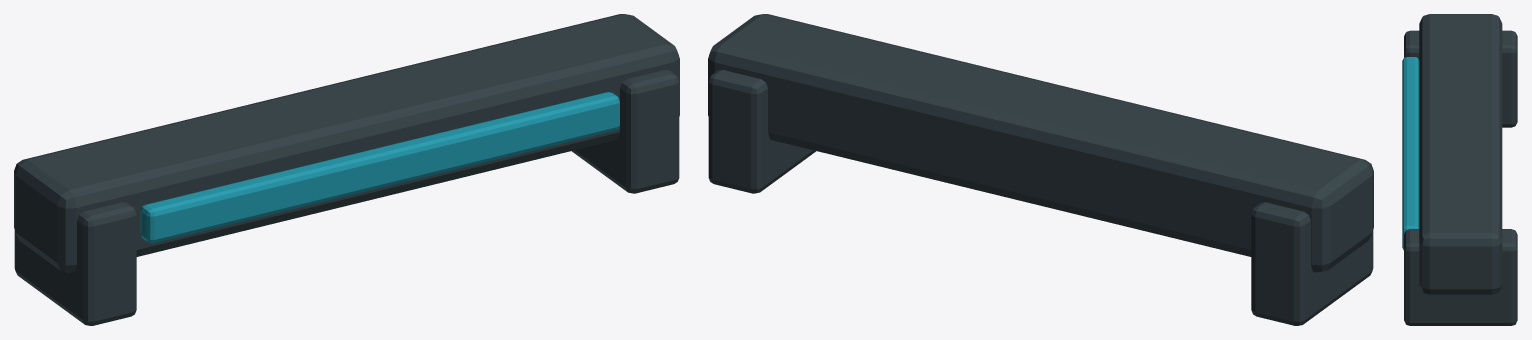
Rendered from dz_emergency_light_bar.glb.
The picture shows the model from 3 angles, left to right: view 1: azimuth 30°, elevation 25°; view 2: azimuth 150°, elevation 25°; view 3: azimuth 270°, elevation 25°; orthographic projection. The views are drawn at different scales.
Visible parts, largest first — view 1: LightBarHousing, LightBarLens, LightBarMount_-0.62, LightBarMount_0.62; view 2: LightBarHousing, LightBarMount_-0.62, LightBarMount_0.62; view 3: LightBarHousing, LightBarMount_0.62, LightBarLens, LightBarMount_-0.62.
Boxes of the visible parts, bbox=[...] form: LightBarHousing: bbox=[14, 14, 679, 272]; LightBarLens: bbox=[140, 92, 619, 243]; LightBarMount_-0.62: bbox=[14, 202, 136, 325]; LightBarMount_0.62: bbox=[571, 70, 679, 193]; LightBarHousing: bbox=[708, 14, 1373, 272]; LightBarMount_-0.62: bbox=[1251, 202, 1373, 325]; LightBarMount_0.62: bbox=[708, 70, 816, 193]; LightBarHousing: bbox=[1419, 14, 1502, 294]; LightBarMount_0.62: bbox=[1404, 229, 1517, 325]; LightBarLens: bbox=[1402, 57, 1419, 250]; LightBarMount_-0.62: bbox=[1404, 30, 1517, 127].
Bounding box in the file's own units: 1.42 × 0.28 × 0.3045.
